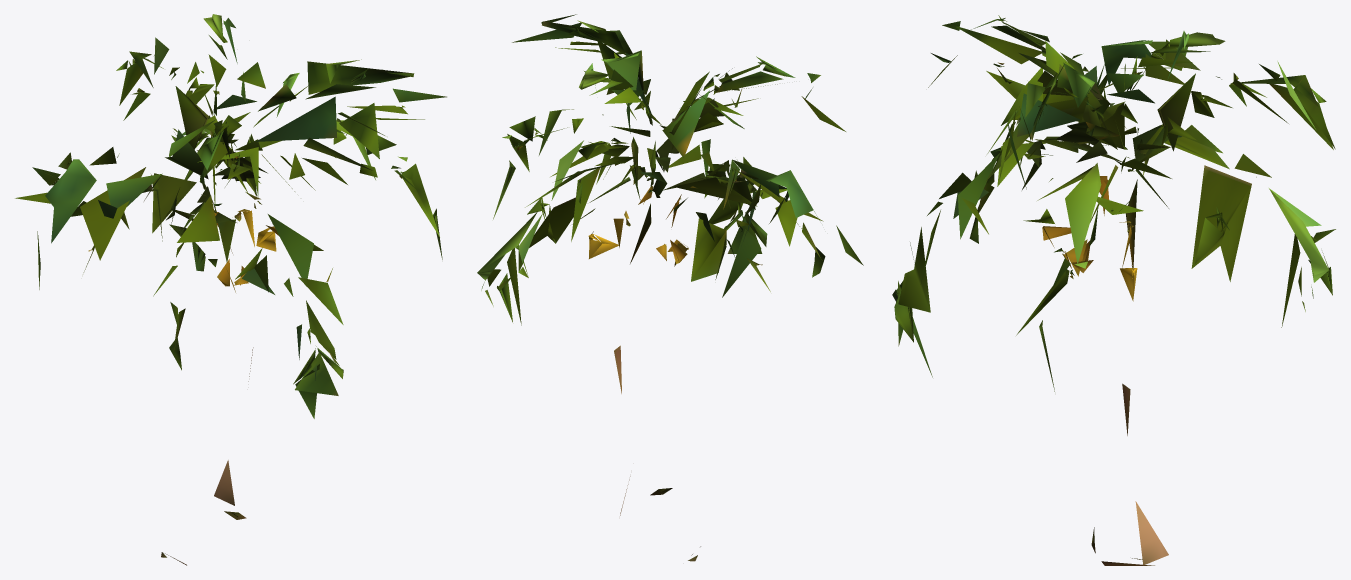
The model's file is biome_palm_lo.glb.
3 renders of one model, left to right at view 1: azimuth 30°, elevation 25°; view 2: azimuth 150°, elevation 25°; view 3: azimuth 270°, elevation 25°, orthographic. The views are drawn at different scales.
Visible parts, largest first — view 1: Mesh_0; view 2: Mesh_0; view 3: Mesh_0.
Boxes of the visible parts, box(x1,y1,x2,y2) form: Mesh_0: box(15, 14, 446, 565); Mesh_0: box(477, 14, 863, 561); Mesh_0: box(892, 15, 1335, 565).
Size of the model in its own units: 8.33 by 10.26 by 7.14.
1 material, 1 textured.
